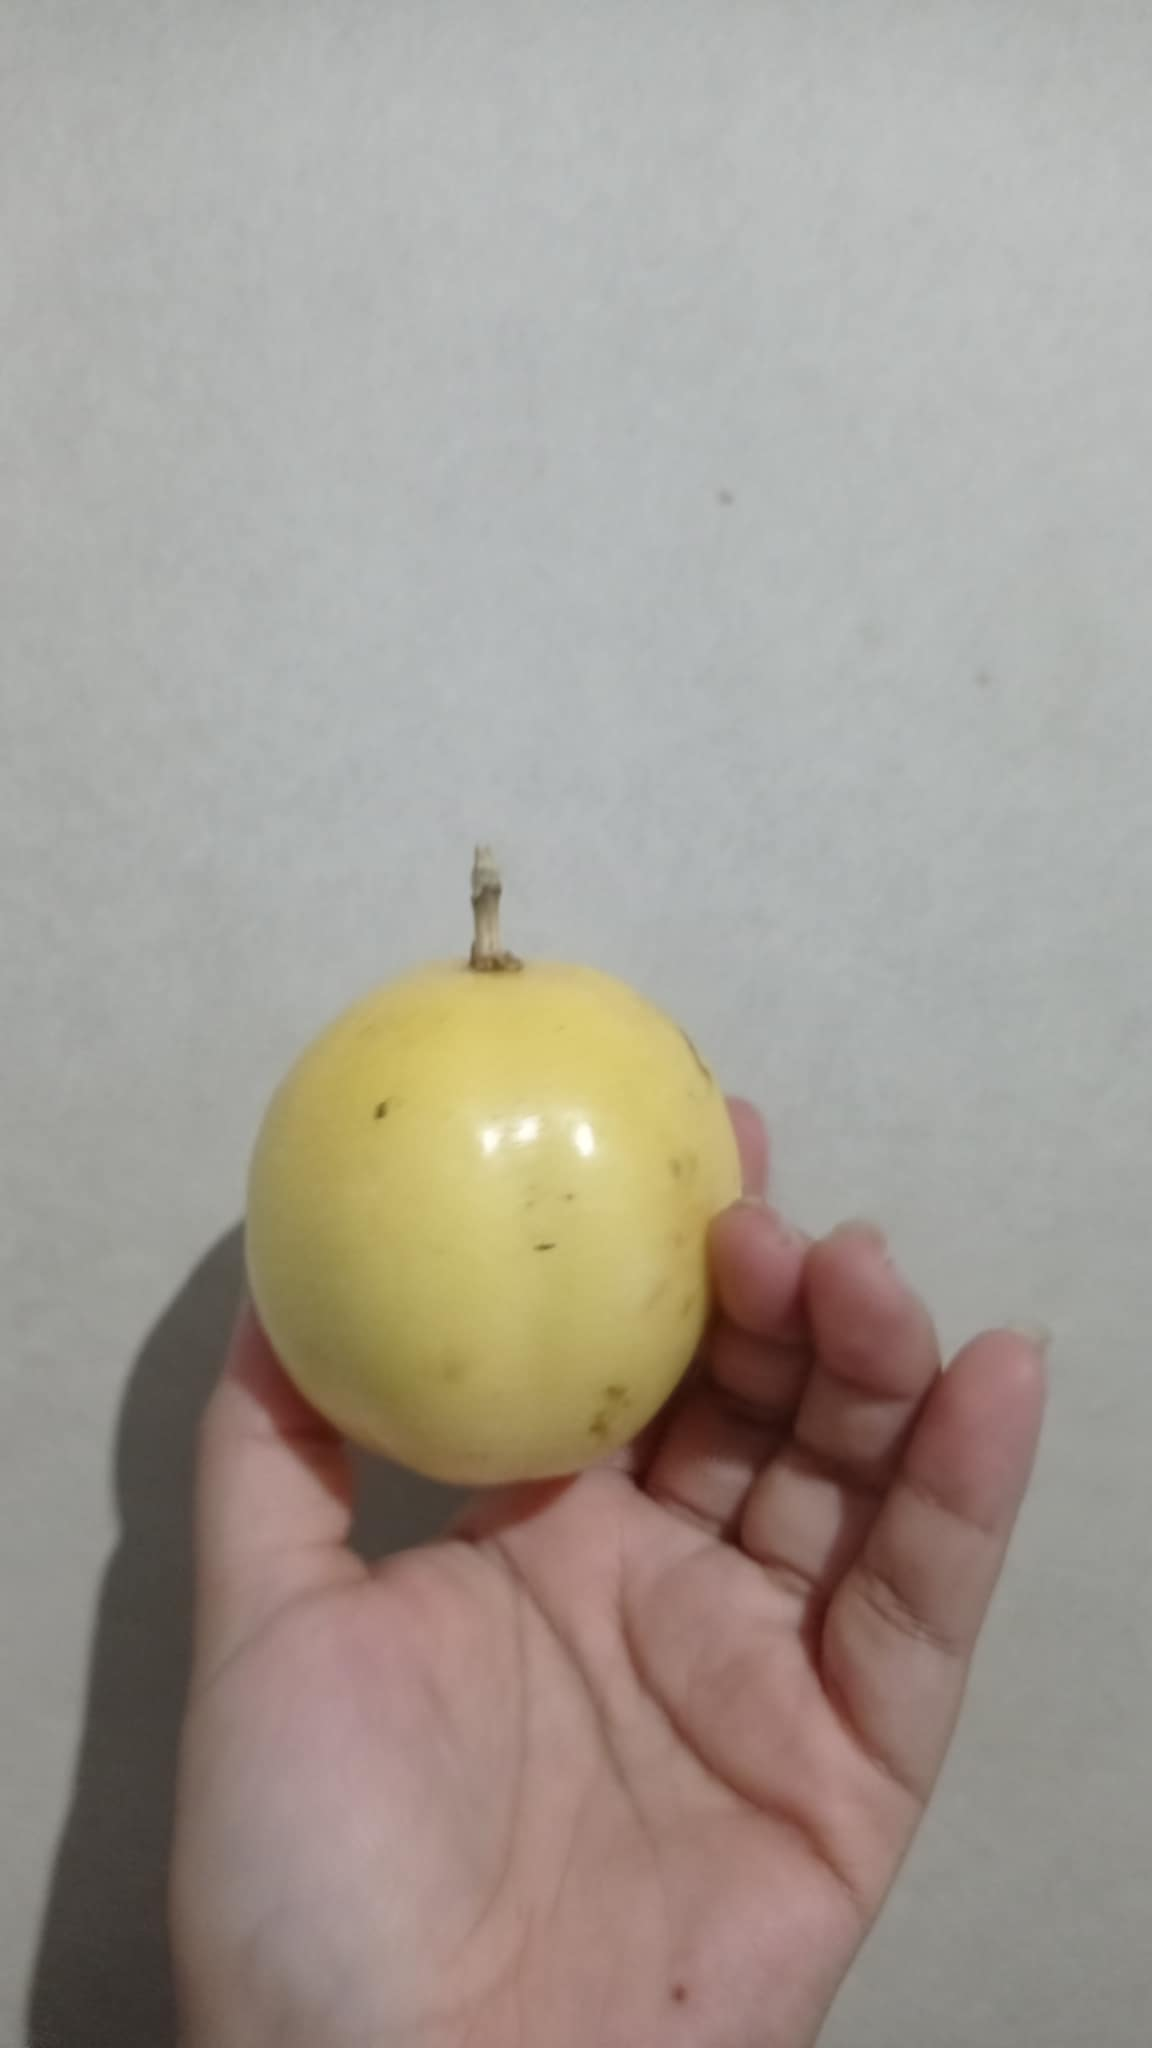maracuya: (236, 820, 757, 1535)
